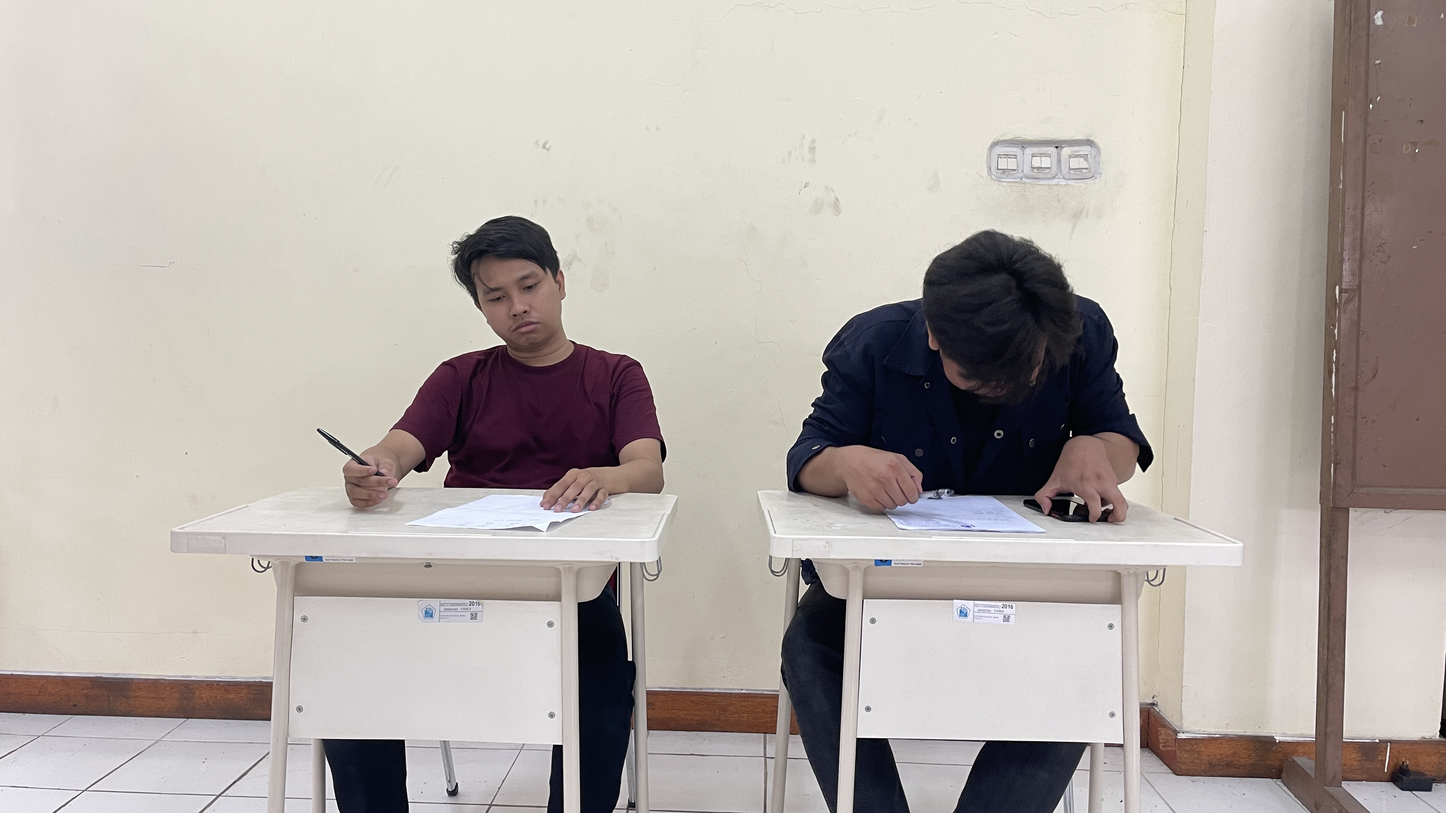cheating: (913, 233, 1066, 407)
non-cheating: (1027, 495, 1118, 526)
